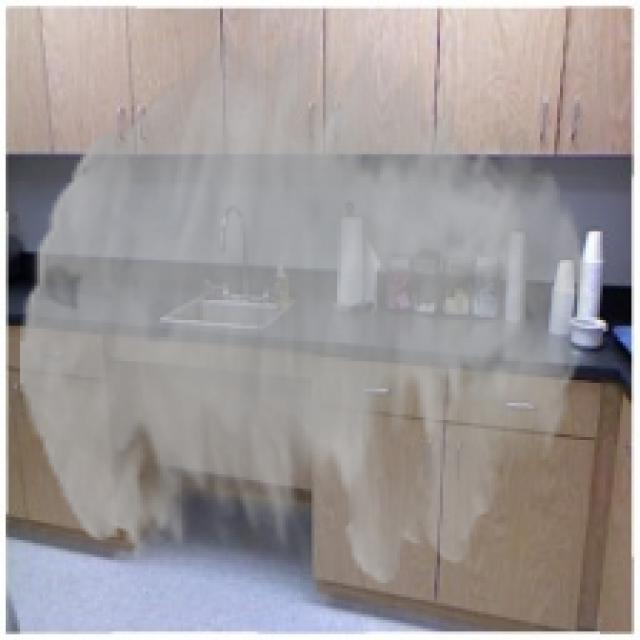smoke: (20, 31, 589, 583)
